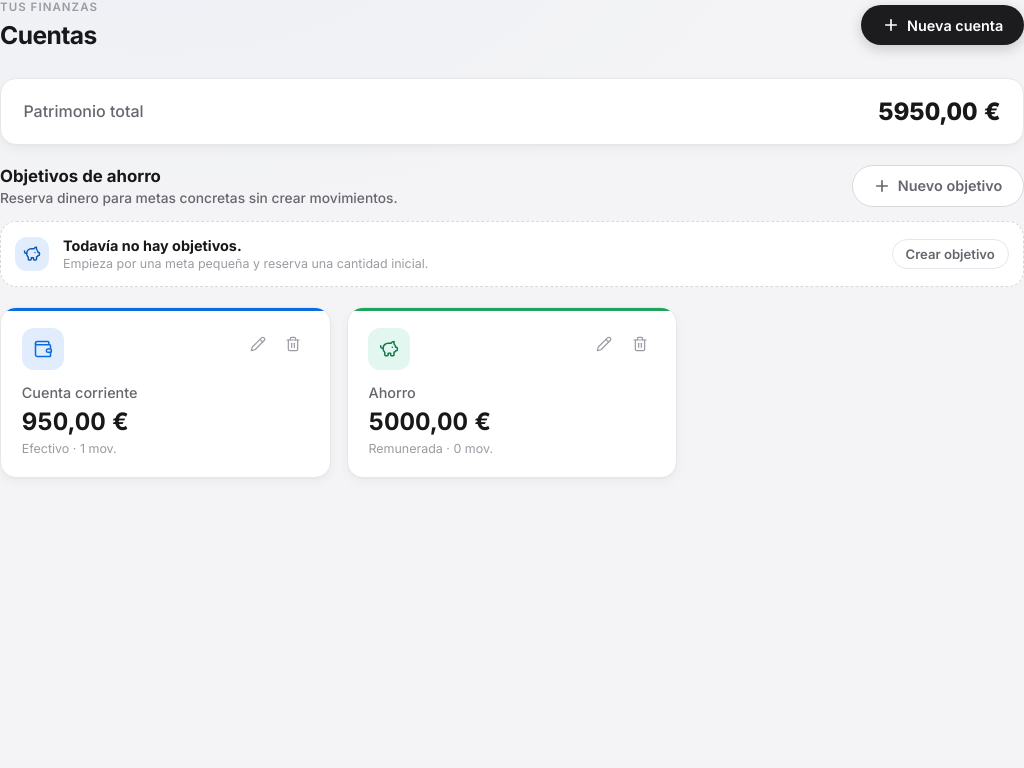
Scenario: AccountsPage › blocks deletion of an account with transactions
Click the 1st button named "Borrar" at (293, 344), box [277, 328, 309, 360]
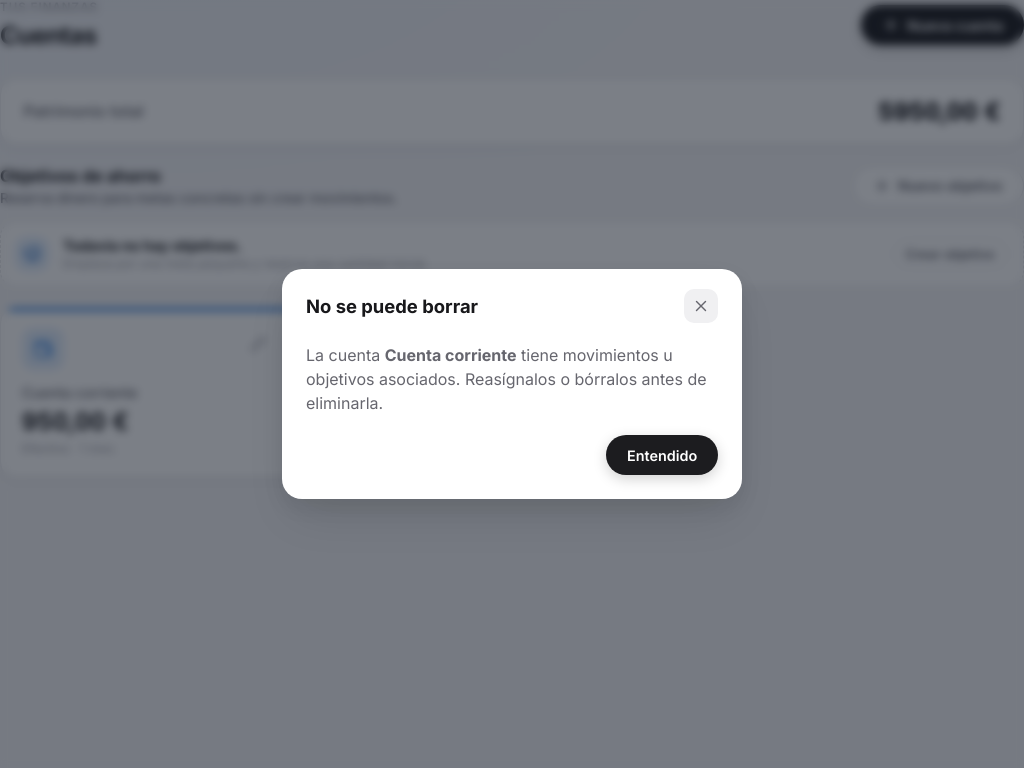
expect the heading "No se puede borrar" is shown: met, box [306, 295, 478, 317]
expect the text "tiene movimientos u objetivos asociados" is shown: met, box [306, 345, 706, 413]
